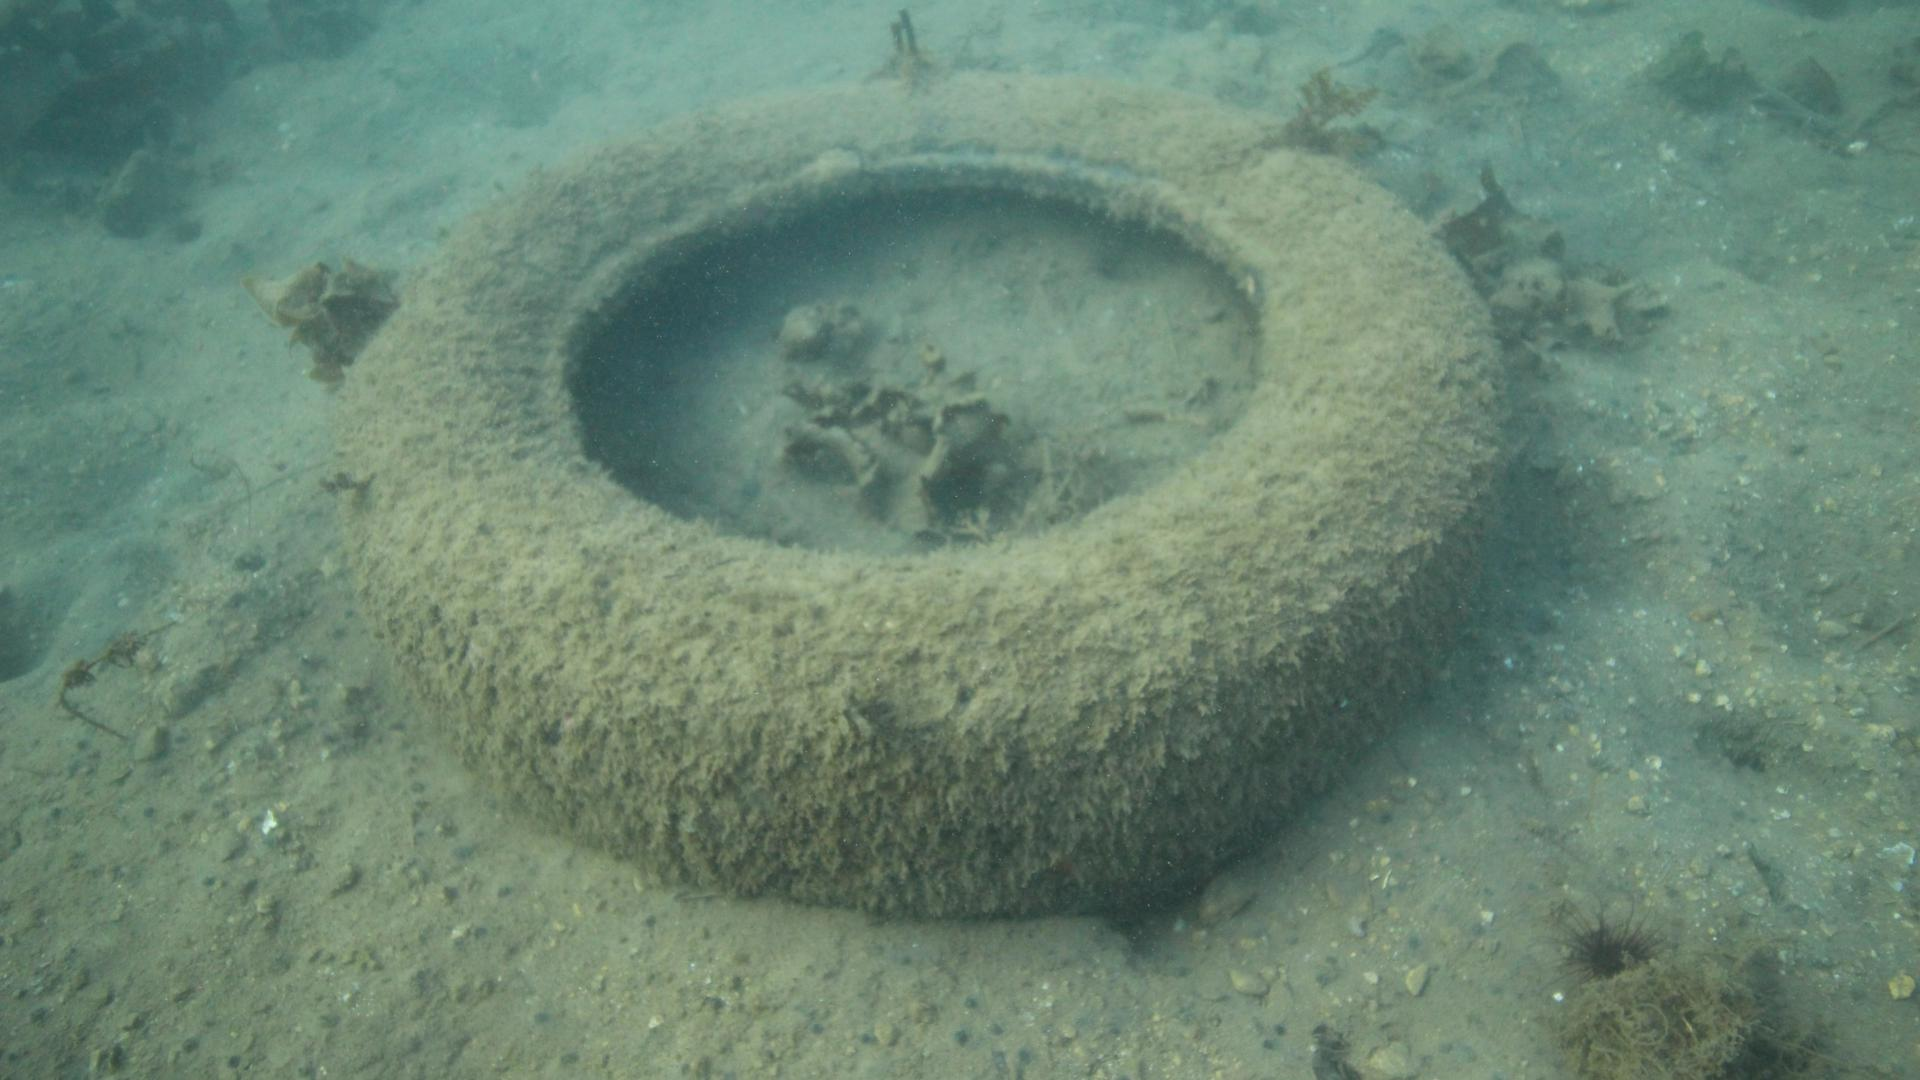tire: (323, 67, 1509, 914)
